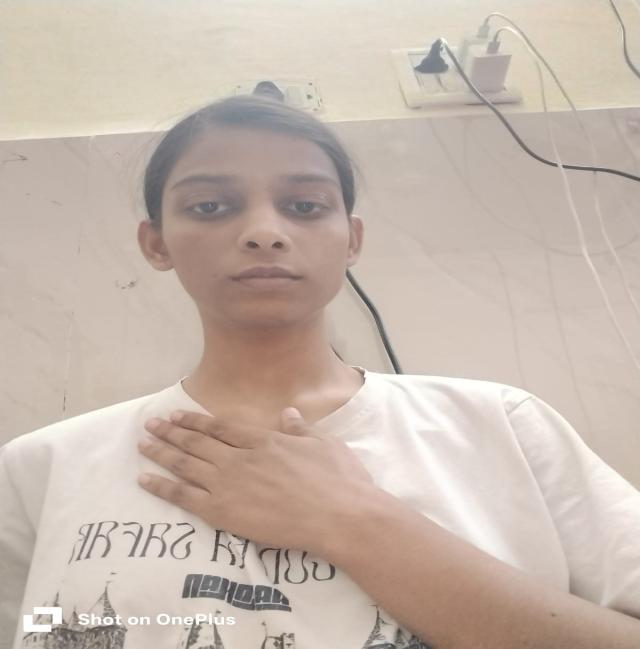Please: (118, 392, 428, 578)
